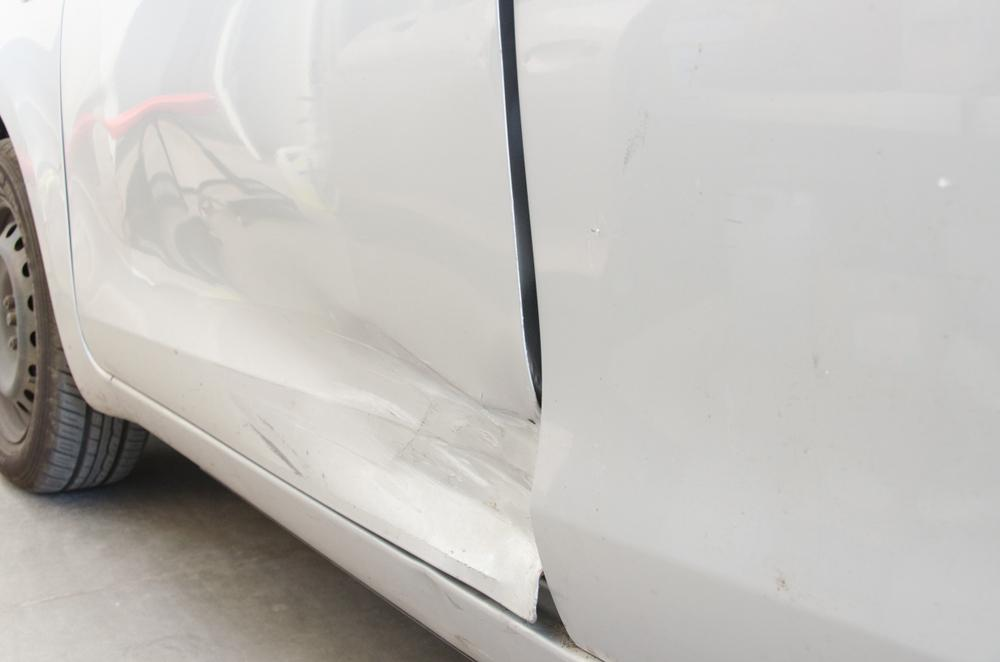dent: (81, 96, 535, 618)
